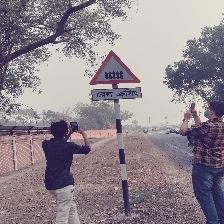Rail-crossing: (88, 51, 142, 100)
